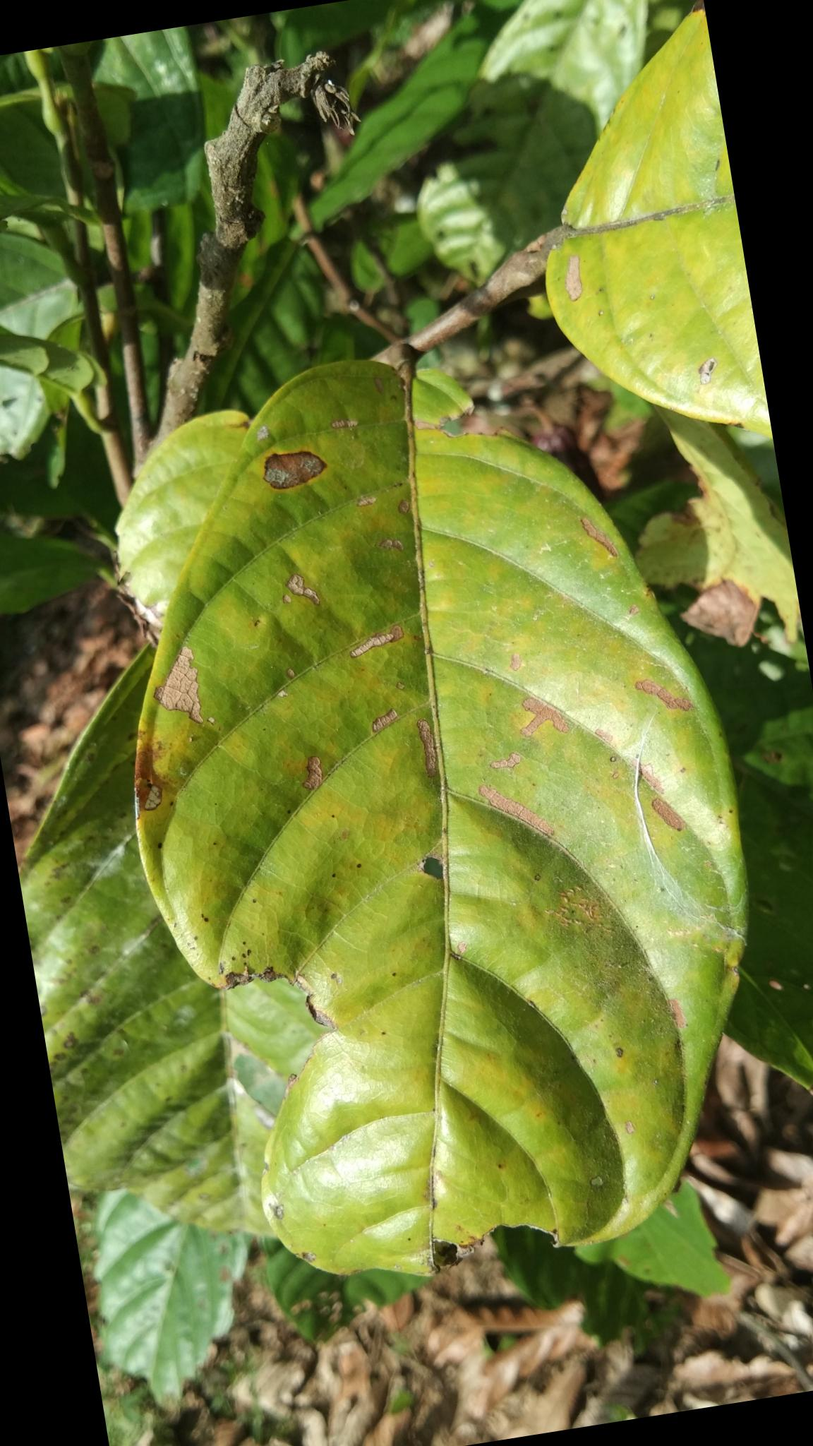Fosforo: (140, 377, 722, 1278), (546, 1, 771, 434)
